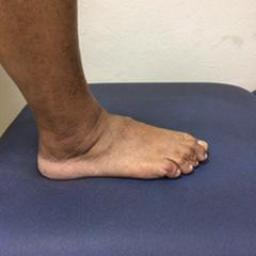Lateral View -Right Foot-: (14, 92, 223, 194)
